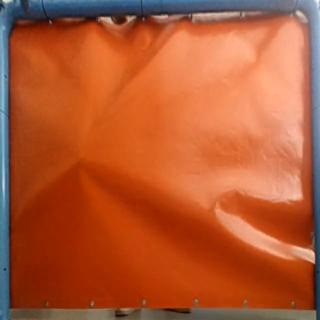Hit-hRxx: (72, 155, 88, 168)
